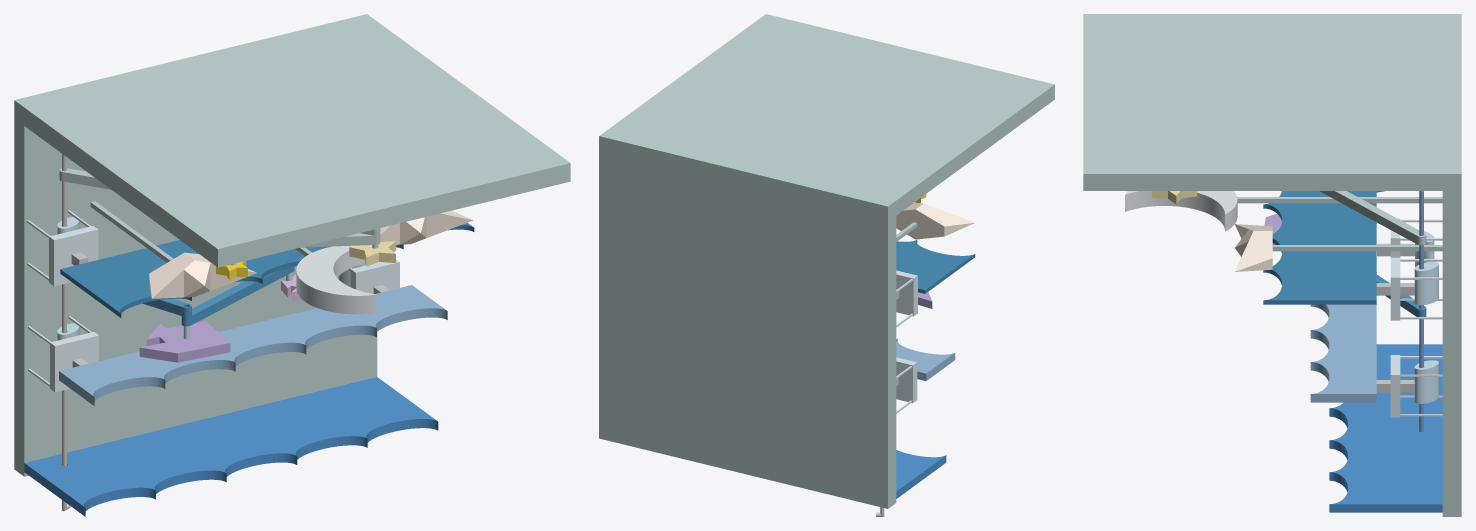
The model's file is automata-3d.glb.
The picture shows the model from 3 angles, left to right: view 1: azimuth 30°, elevation 25°; view 2: azimuth 150°, elevation 25°; view 3: azimuth 270°, elevation 25°; orthographic projection. The views are drawn at different scales.
Visible parts, largest first — view 1: base, wave 2, wave 1, wave 3, Part 5 (×3), boats (×2), moon, Fish big, tool alt 2, Crank, Part 19, TOOL 1 (+1 smaller); view 2: base, wave 3, Part 5 (×2), boats, wave 2, wave 1; view 3: base, wave 2, wave 3, wave 1, Part 5 (×3), moon, Part 1 (×2), boats, TOOL 1, crank holder 2.
Boxes of the visible parts, box(x1,y1,x2,y2) form: base: box(14, 14, 570, 476); wave 2: box(24, 377, 438, 516); wave 1: box(59, 285, 447, 405); wave 3: box(60, 223, 474, 317); Part 5 (×3): box(27, 210, 399, 392); boats (×2): box(149, 210, 473, 298); moon: box(296, 245, 376, 314); Fish big: box(139, 321, 230, 362); tool alt 2: box(181, 266, 294, 326); Crank: box(62, 154, 70, 511); Part 19: box(349, 241, 396, 266); TOOL 1: box(59, 168, 380, 235); base: box(599, 14, 1054, 508); wave 3: box(896, 240, 975, 293); Part 5 (×2): box(896, 270, 917, 413); boats: box(896, 203, 974, 239); wave 2: box(896, 450, 946, 498); wave 1: box(896, 338, 955, 380); base: box(1083, 14, 1461, 516); wave 2: box(1329, 344, 1442, 512); wave 3: box(1263, 191, 1376, 304); wave 1: box(1310, 304, 1376, 402); Part 5 (×3): box(1390, 218, 1442, 417); moon: box(1125, 191, 1237, 231); Part 1 (×2): box(1414, 261, 1438, 403); boats: box(1235, 224, 1272, 271); TOOL 1: box(1319, 191, 1426, 245); crank holder 2: box(1419, 191, 1423, 431).
Bounding box in the file's own units: 0.4015 × 0.435 × 0.4.
